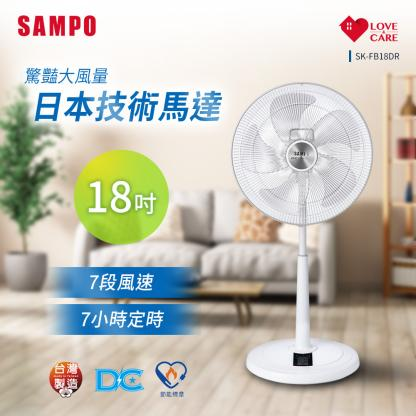fan: (229, 76, 373, 390)
